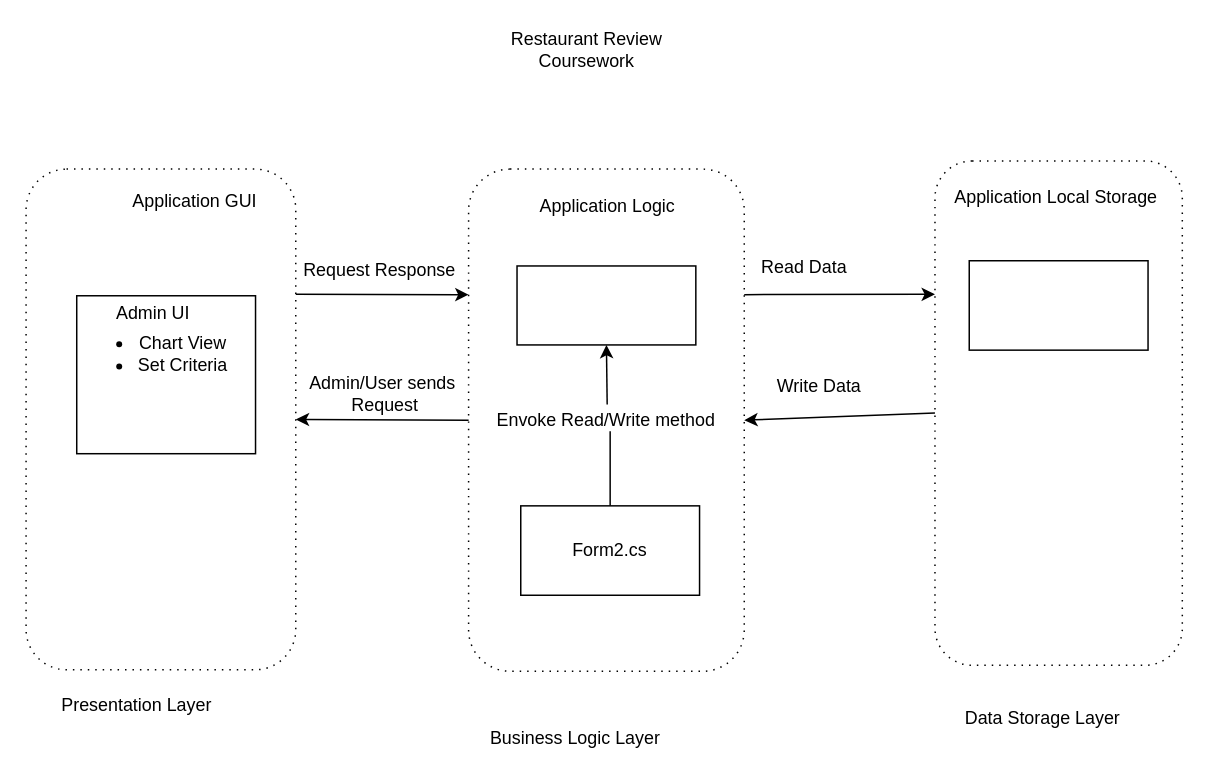
The diagram is 1208 pixels wide and 776 high, and some of its shapes have lost their labels. The shapes that lost their labels are listed below. From the top down, each one's centre as x and y in pixels, then its label:
At point 606,304: "Form1.cs".
At point 1058,304: "dataFile,CSV".
